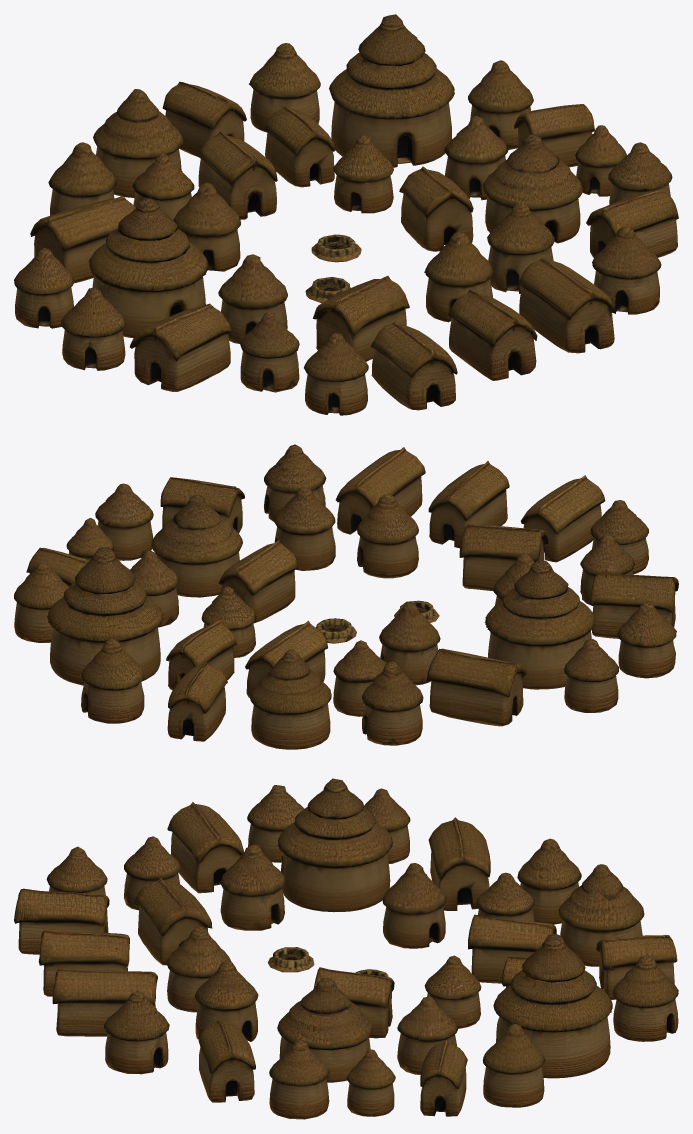
Rendered from Prehistoric Town (West African).fbx.
3 views of the same model, one above another, from view 1: azimuth 30°, elevation 25°; view 2: azimuth 150°, elevation 25°; view 3: azimuth 270°, elevation 25° (orthographic). The views are drawn at different scales.
Visible parts, largest first — view 1: tripo_node_4364c744; view 2: tripo_node_4364c744; view 3: tripo_node_4364c744.
Part boxes in pixels (left/top/right/bottom): tripo_node_4364c744: left=14, top=14, right=678, bottom=415; tripo_node_4364c744: left=14, top=444, right=678, bottom=749; tripo_node_4364c744: left=14, top=778, right=678, bottom=1119.
Bounding box in the file's own units: 1 × 0.199 × 0.9943.
